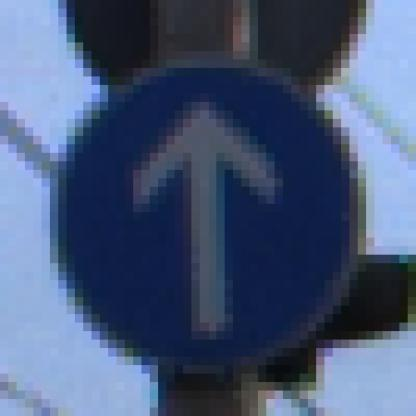AheadOnly: (43, 44, 376, 375)
